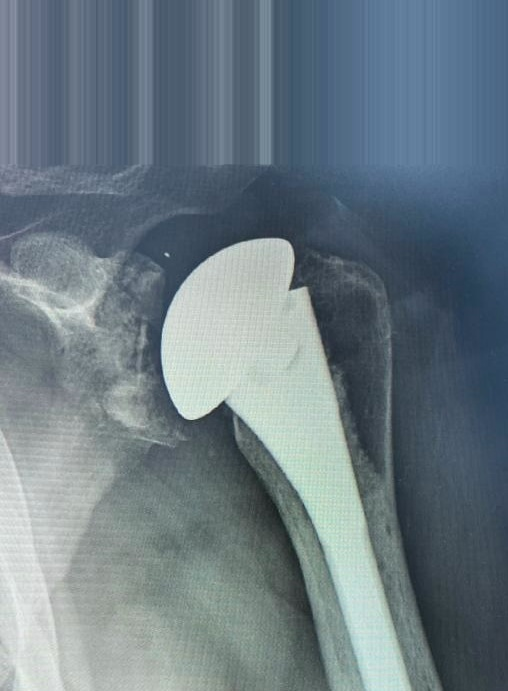Shoulder - Anotomical - Stryker: (146, 233, 345, 430)
